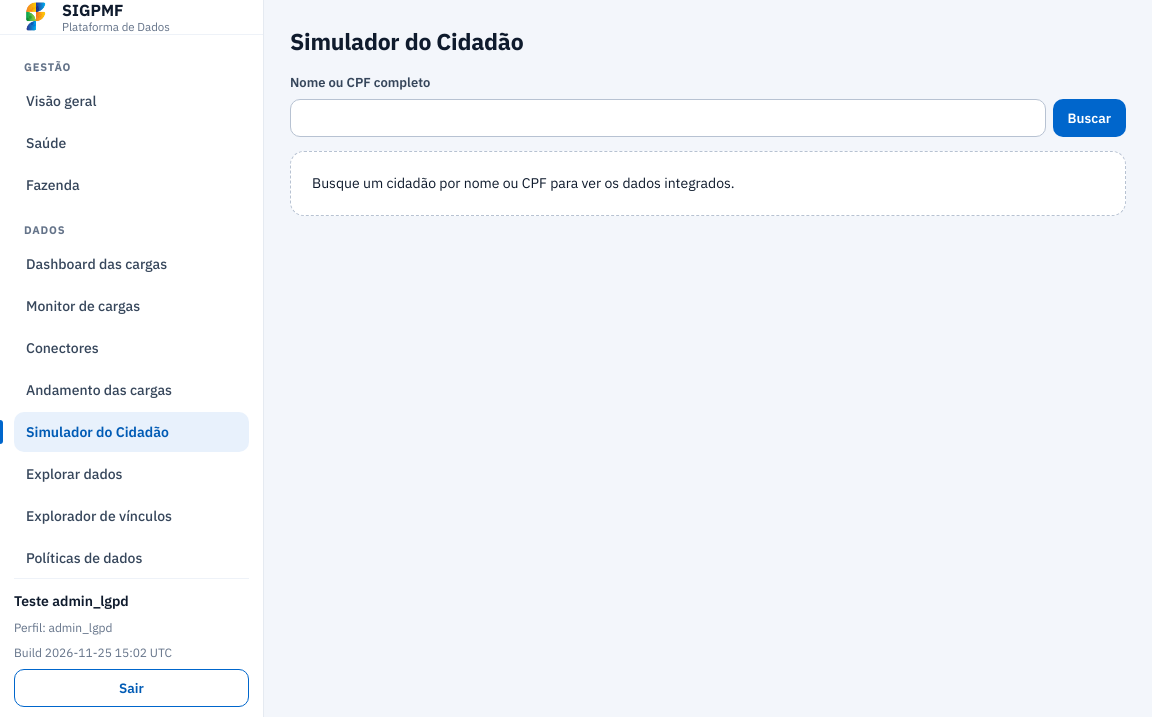
Test: simulador › 400 da API vira a mensagem de motivo (UX-S11)
expect the text "Busque um cidadão por nome ou CPF para ver os dados integrados." is shown: met, box [290,151,1126,216]
Step 1. Type "Bruno" into the field labelled "Nome ou CPF completo" → {"x": 668, "y": 118}, box [290,99,1046,137]
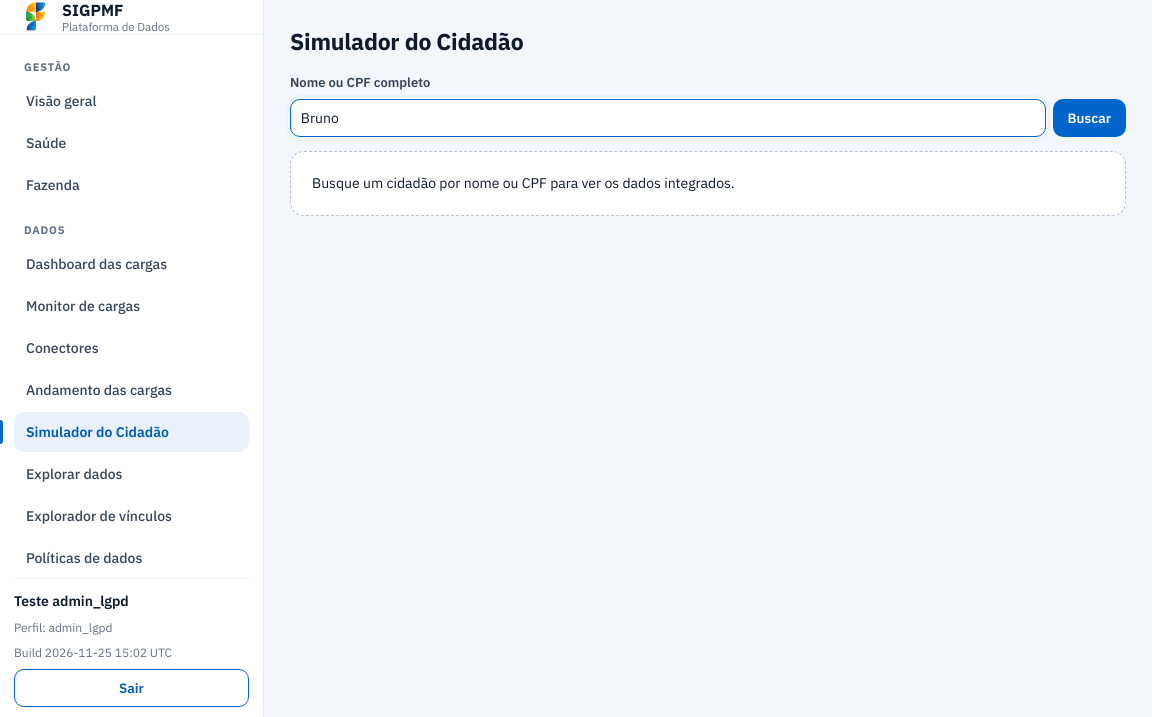
Step 2. Click the button "Buscar" → {"x": 1089, "y": 118}, box [1053,99,1126,137]
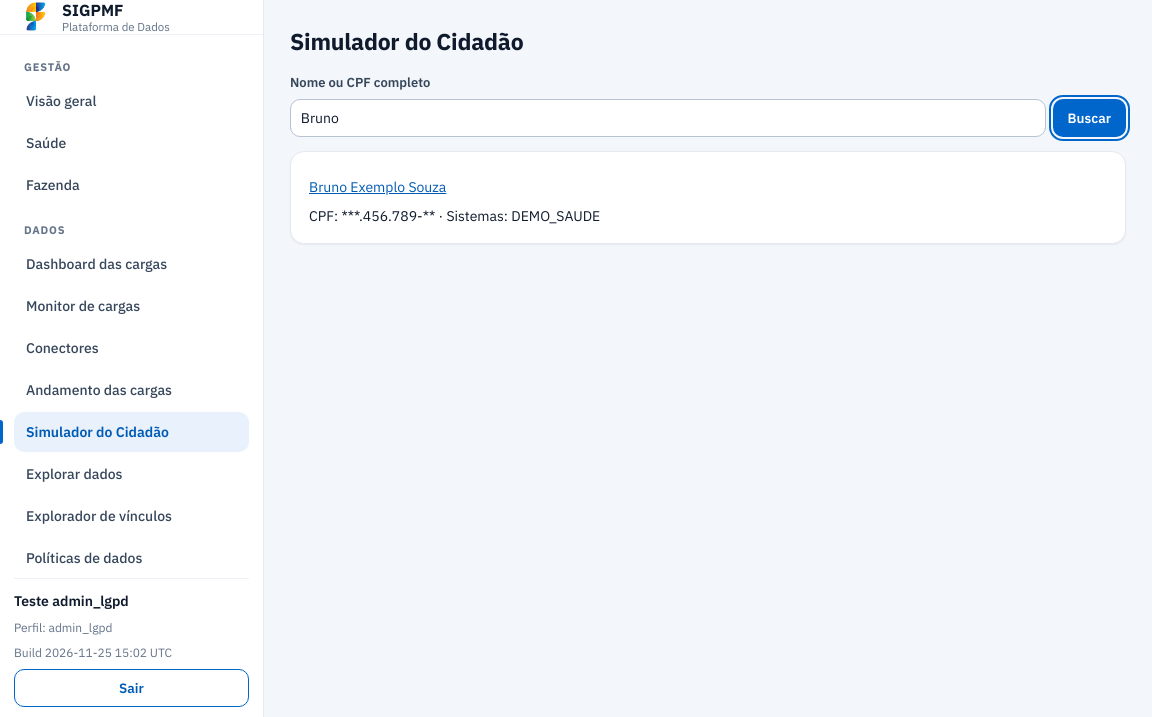
Step 3. Click the button "Bruno Exemplo Souza" → {"x": 378, "y": 187}, box [309,168,446,206]
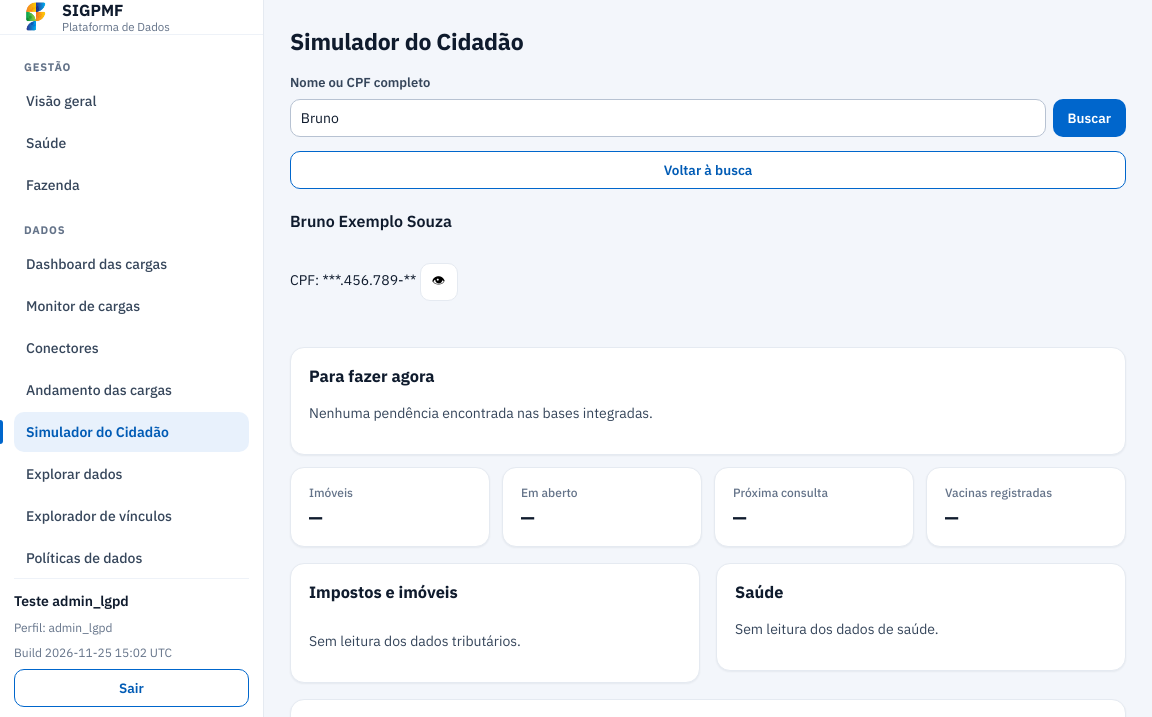
expect the heading "Bruno Exemplo Souza" is shown: met, box [290,211,452,231]
Step 4. Click the button named "Revelar CPF" → {"x": 439, "y": 282}, box [420,263,458,301]
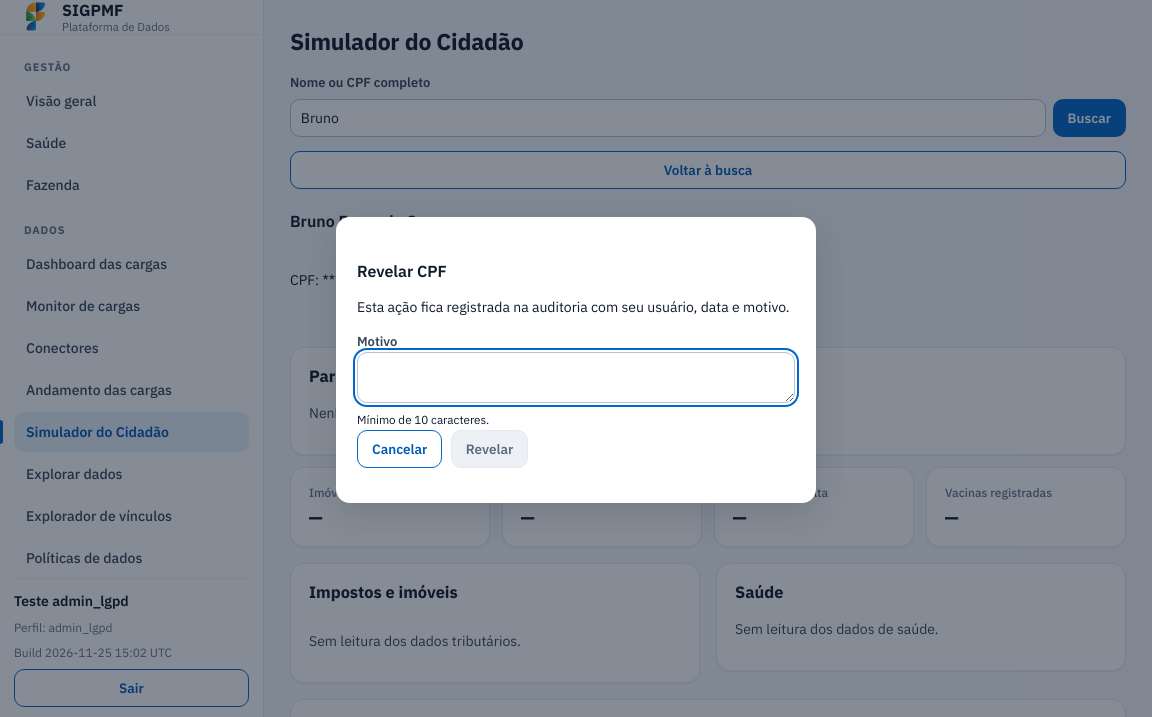
Step 5. Type "sem-motivo-no-servidor" into the text box labelled "Motivo" → {"x": 576, "y": 377}, box [357,352,795,403]
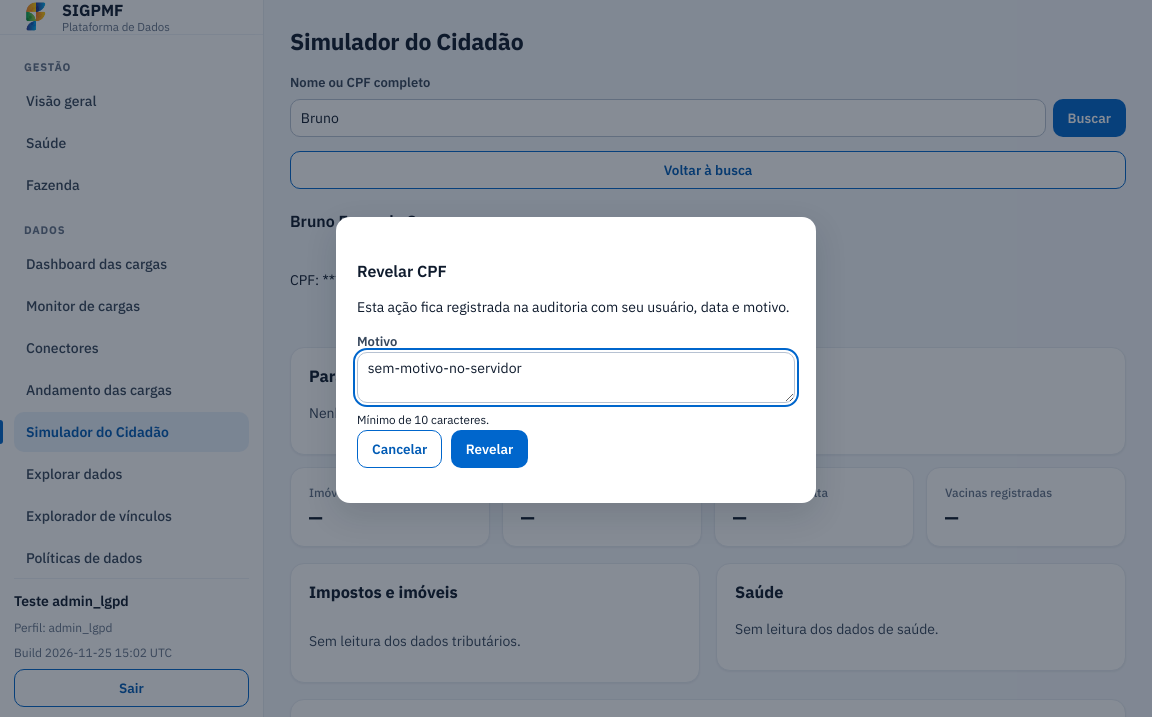
Step 6. Click the button "Revelar" → {"x": 490, "y": 448}, box [451,430,528,468]
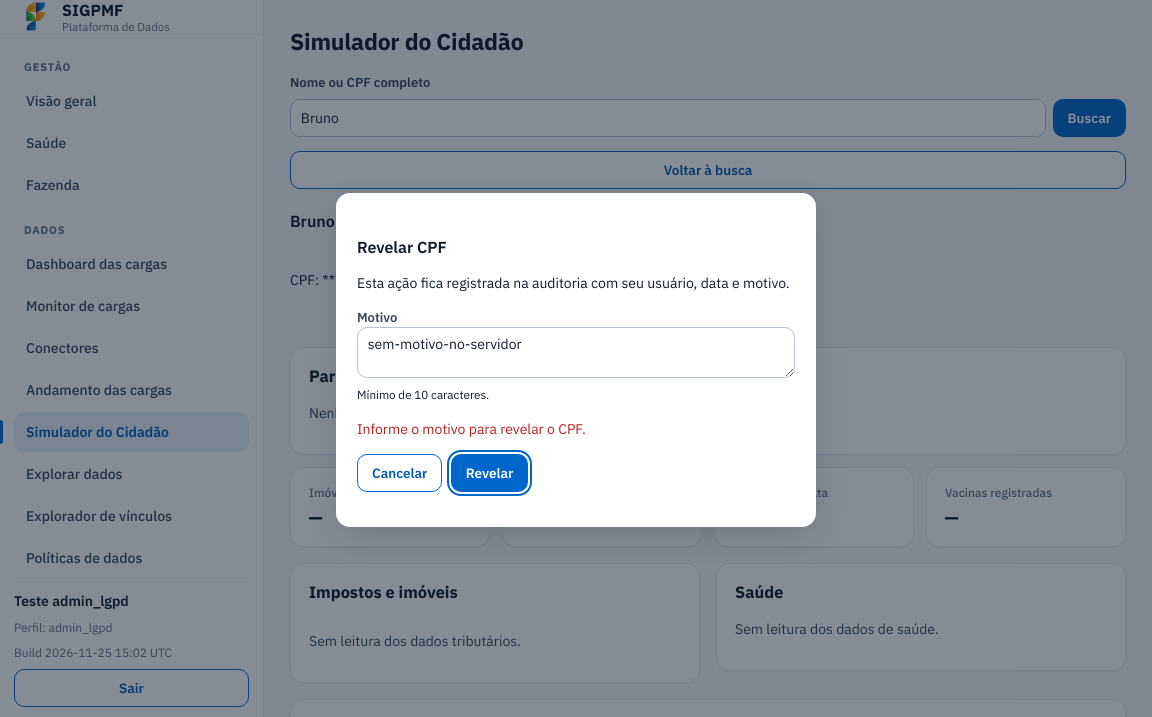
expect the text "Informe o motivo para revelar o CPF." is shown: met, box [357,420,586,438]
